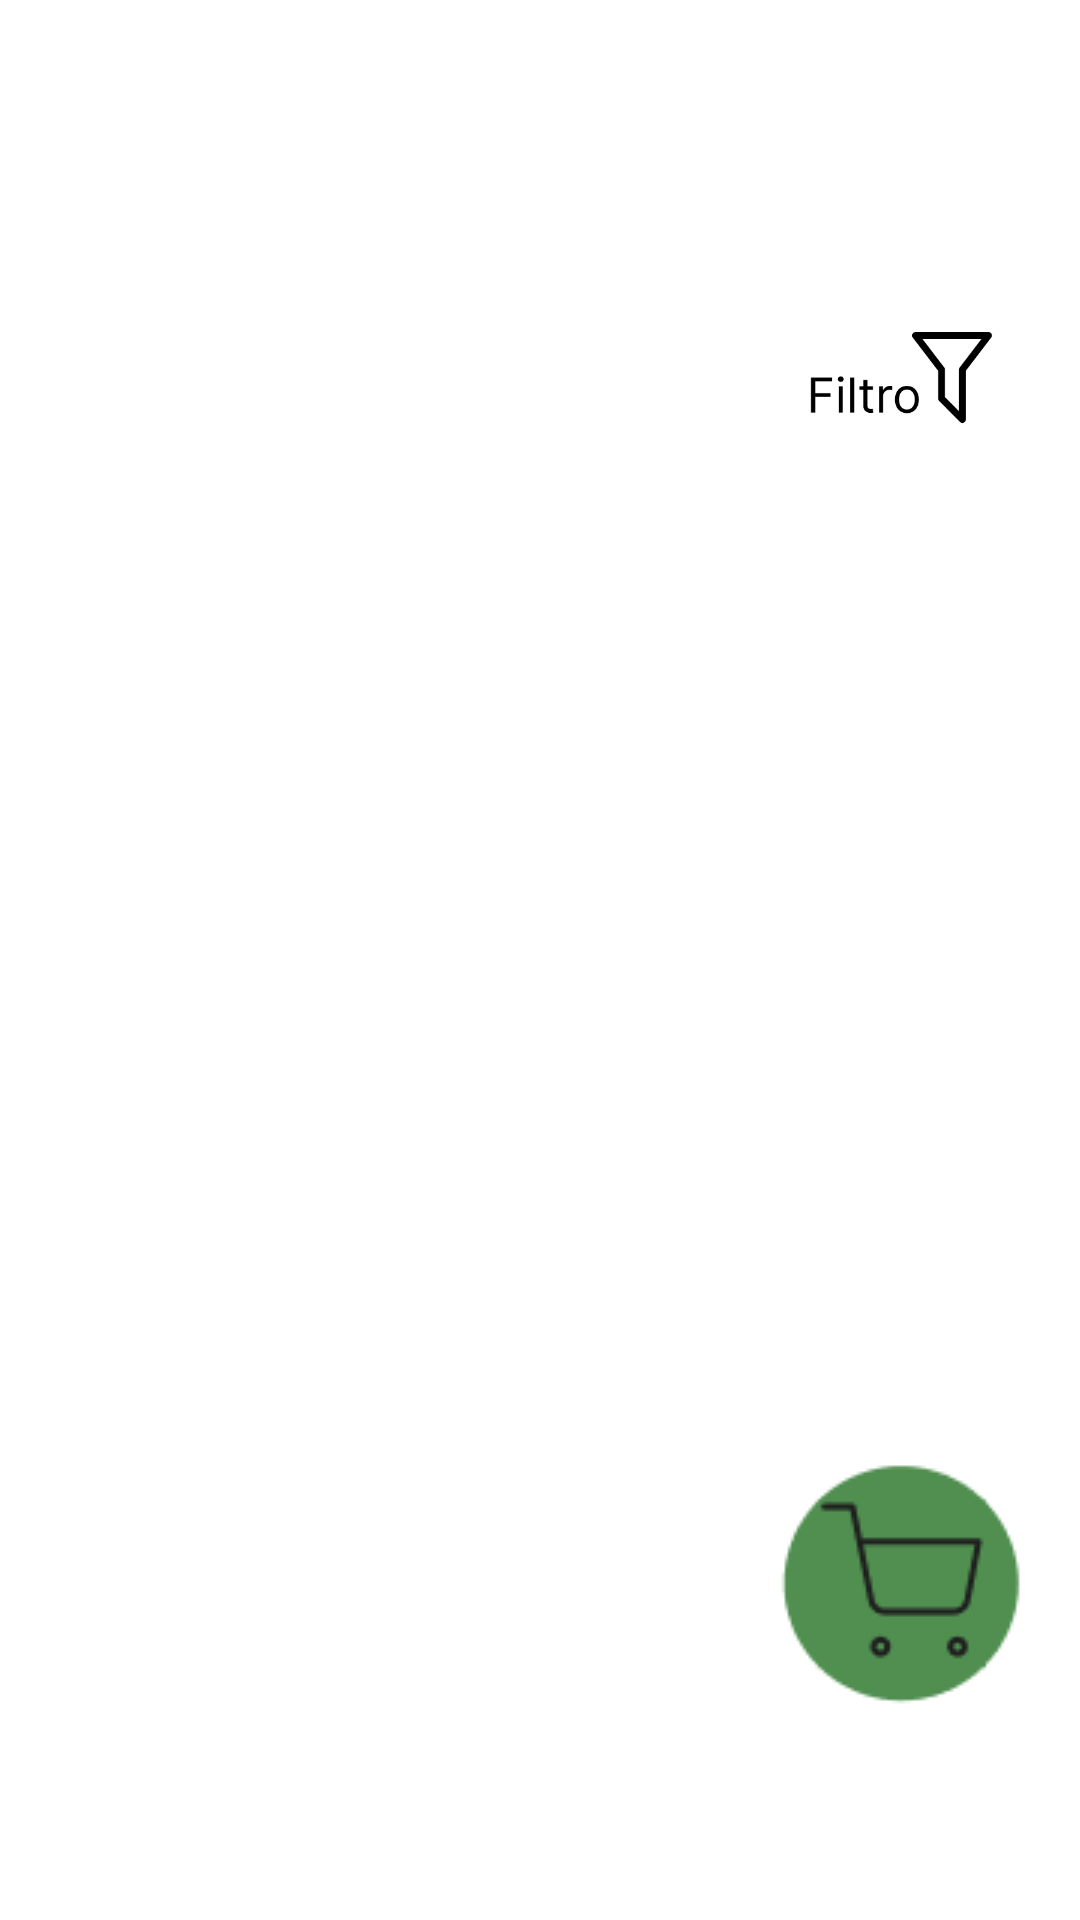

Point at icon controls on the screen. Image size 1080w x 1920h, points as (x,y).
Carrinho de compras: (901,1584)
